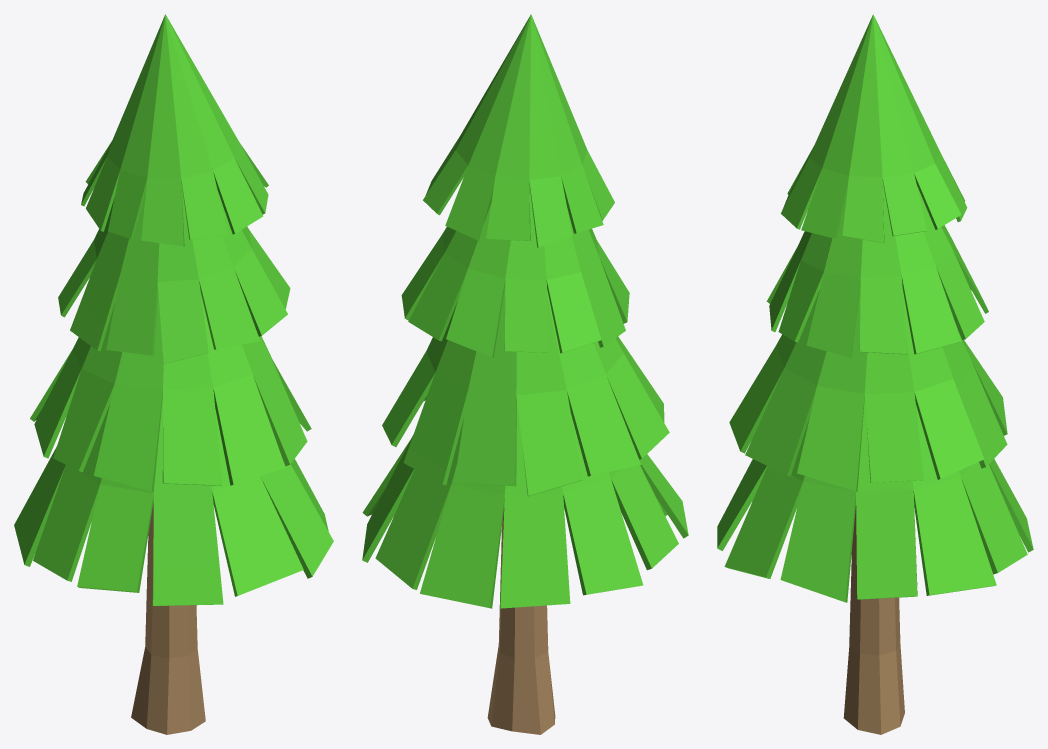
File: PineTree.fbx
The picture shows the model from 3 angles, left to right: view 1: azimuth 30°, elevation 25°; view 2: azimuth 150°, elevation 25°; view 3: azimuth 270°, elevation 25°; orthographic projection.
Visible parts, largest first — view 1: Tree3; view 2: Tree3; view 3: Tree3.
Boxes of the visible parts, x1,y1,x2,y2 form: Tree3: [14, 14, 333, 734]; Tree3: [362, 14, 688, 734]; Tree3: [717, 14, 1033, 734].
Bounding box in the file's own units: 1.64 × 4.07 × 1.66.
